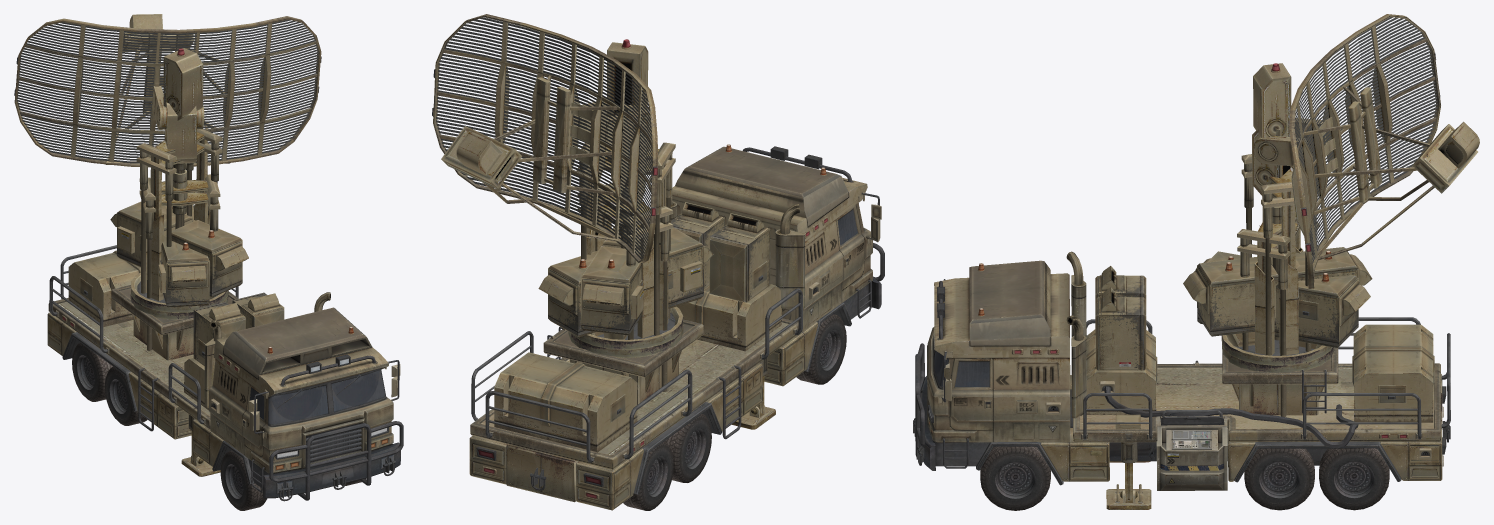
Rendered from radar-truck.glb.
3 views of the same model, side by side, from view 1: azimuth 30°, elevation 25°; view 2: azimuth 150°, elevation 25°; view 3: azimuth 270°, elevation 25° (orthographic). The views are drawn at different scales.
Parts seen in each view (by area): view 1: Object_7, Object_4, Object_5, Object_2, Object_3, Object_6; view 2: Object_7, Object_4, Object_5, Object_2, Object_6; view 3: Object_7, Object_4, Object_2, Object_5, Object_3, Object_9.
Boxes of the visible parts, <box> form: Object_7: <box>14,14,354,484</box>; Object_4: <box>58,288,403,501</box>; Object_5: <box>17,19,318,163</box>; Object_2: <box>72,342,366,510</box>; Object_3: <box>249,370,385,423</box>; Object_6: <box>62,48,387,470</box>; Object_7: <box>432,14,851,510</box>; Object_4: <box>476,146,884,499</box>; Object_5: <box>436,17,652,259</box>; Object_2: <box>623,314,846,510</box>; Object_6: <box>478,39,827,498</box>; Object_7: <box>976,14,1479,509</box>; Object_4: <box>913,260,1450,470</box>; Object_2: <box>980,446,1389,510</box>; Object_5: <box>1294,17,1437,263</box>; Object_3: <box>934,351,989,386</box>; Object_9: <box>1171,430,1211,449</box>.
Size of the model in its own units: 595 by 855 by 1033.
Materials: 8 (7 with a texture image).
